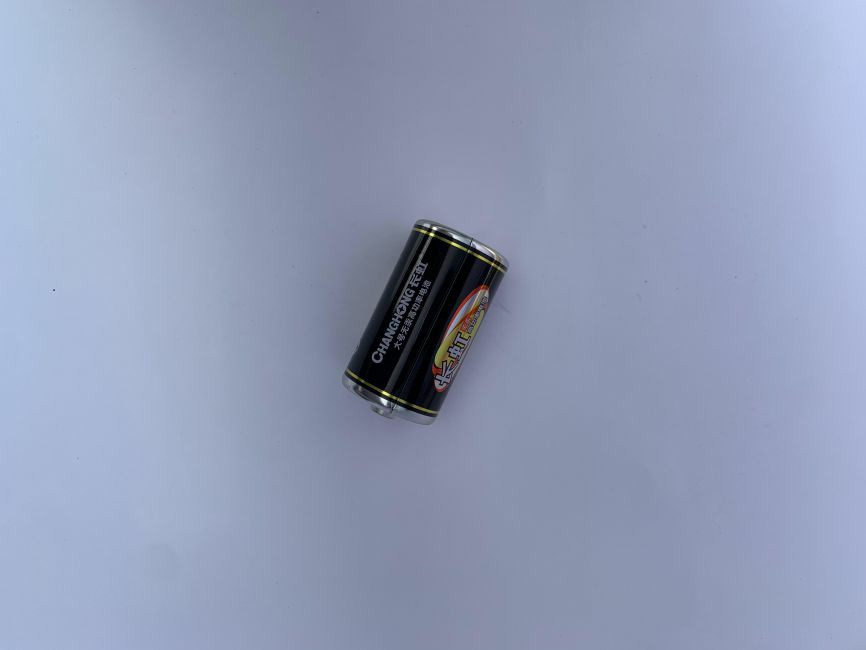charge: (338, 215, 512, 428)
